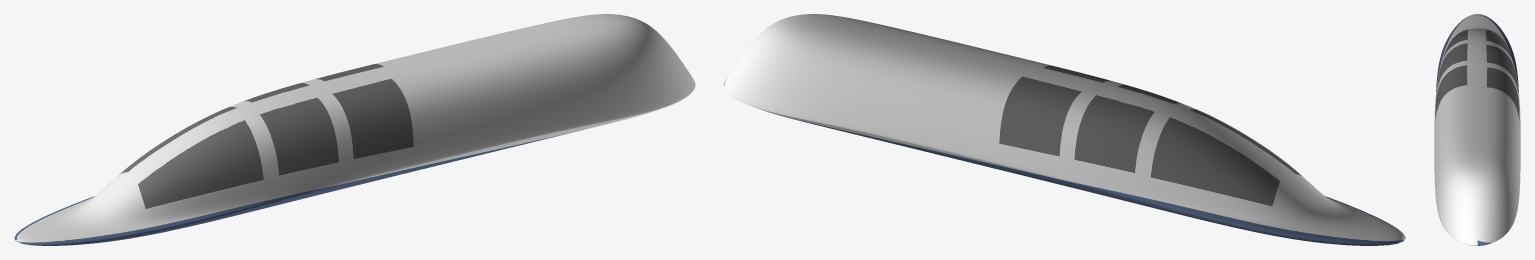
The model's file is Monorailtrain.obj.
3 renders of one model, left to right at view 1: azimuth 30°, elevation 25°; view 2: azimuth 150°, elevation 25°; view 3: azimuth 270°, elevation 25°, orthographic. The views are drawn at different scales.
Parts seen in each view (by area): view 1: trainfutur; view 2: trainfutur; view 3: trainfutur.
Boxes of the visible parts, x1,y1,x2,y2 form: trainfutur: [14, 14, 695, 245]; trainfutur: [724, 14, 1405, 245]; trainfutur: [1434, 14, 1520, 245].
Bounding box in the file's own units: 16.66 × 2.13 × 2.65.
